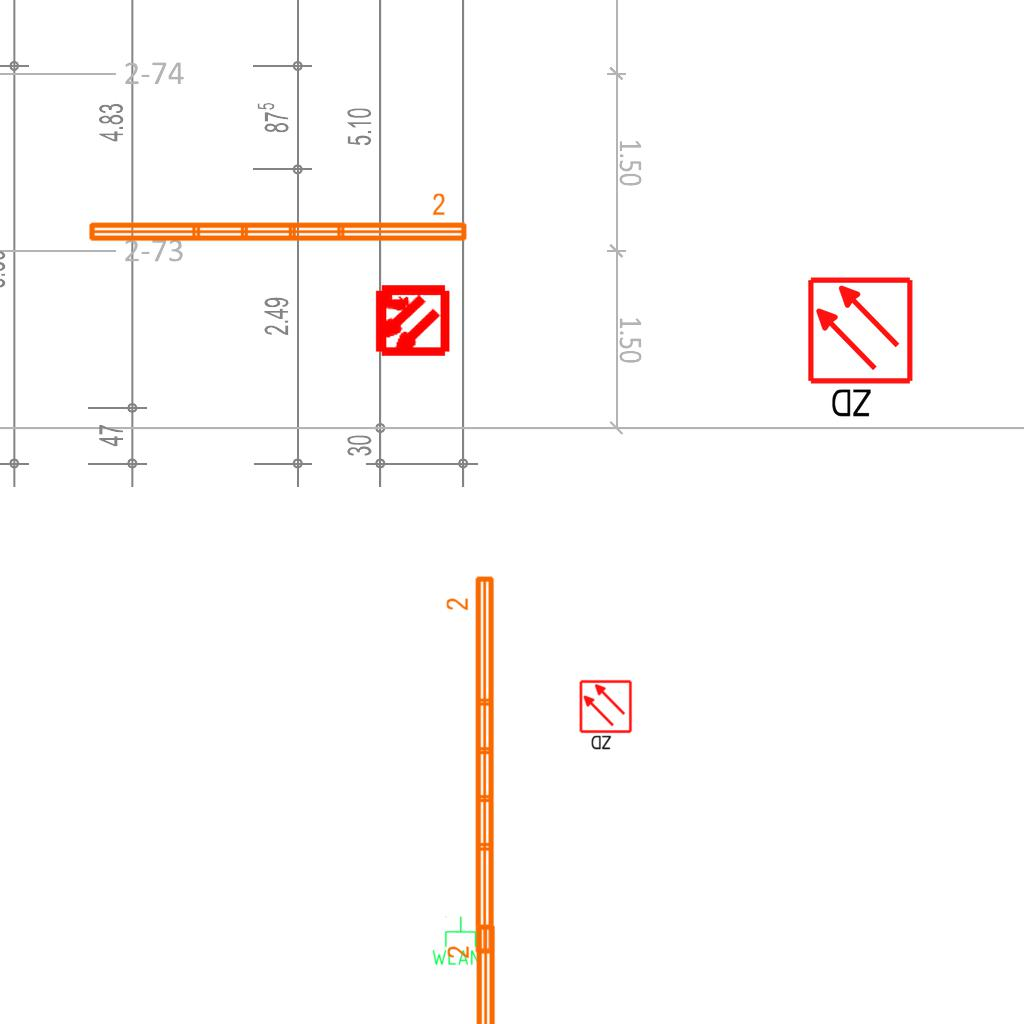Ambulanz_Pendelleuchte_LED: (444, 572, 500, 959), (84, 191, 471, 247), (445, 920, 501, 1024)
OT_Multisensormelder_(Kombination_RMO_WMD): (354, 264, 467, 377)
WLAN: (430, 915, 482, 967)
ZD_Melder_in_Zwischendecke_mit_Revisionsoeffnung_mind_40_x_40_cm: (805, 275, 919, 424), (578, 679, 635, 753)
